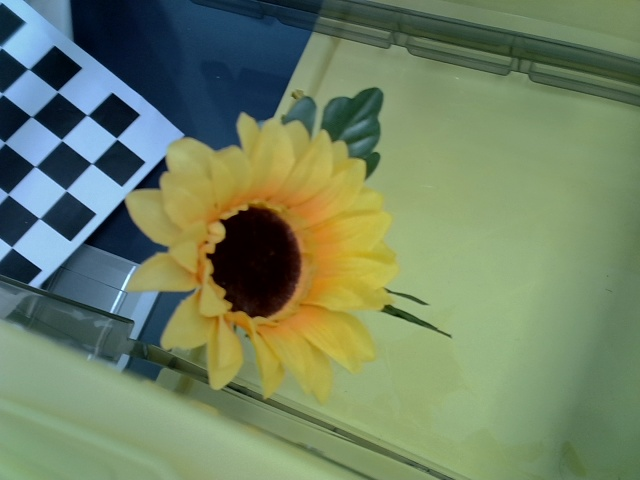해바라기: (123, 122, 397, 399)
